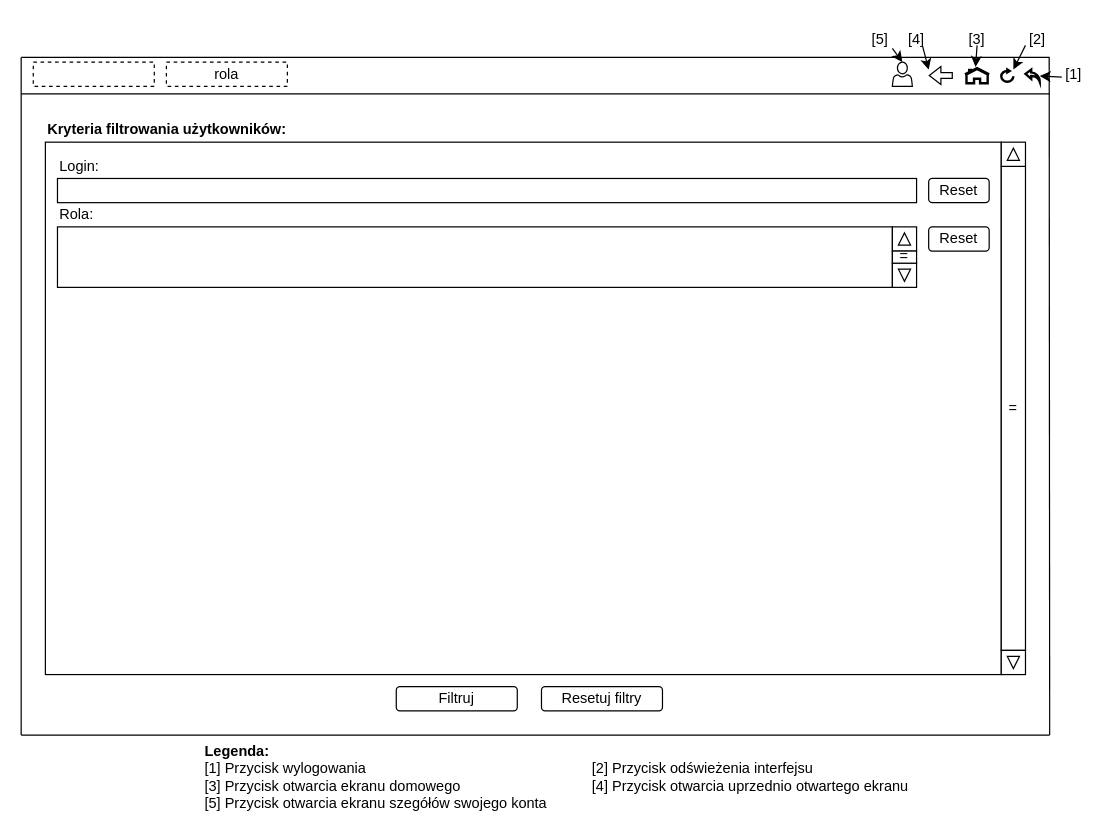
Image size: 1107x840. Some labels were removed from this diagram. Here are the shapes that lost their labels. From the top down, the centre of each, then its label:
point (93, 73): login
point (486, 190): pole do wprowadzenia loginu (lub jego części)
point (474, 256): lista wielokrotnego wyboru z dostępnych ról
